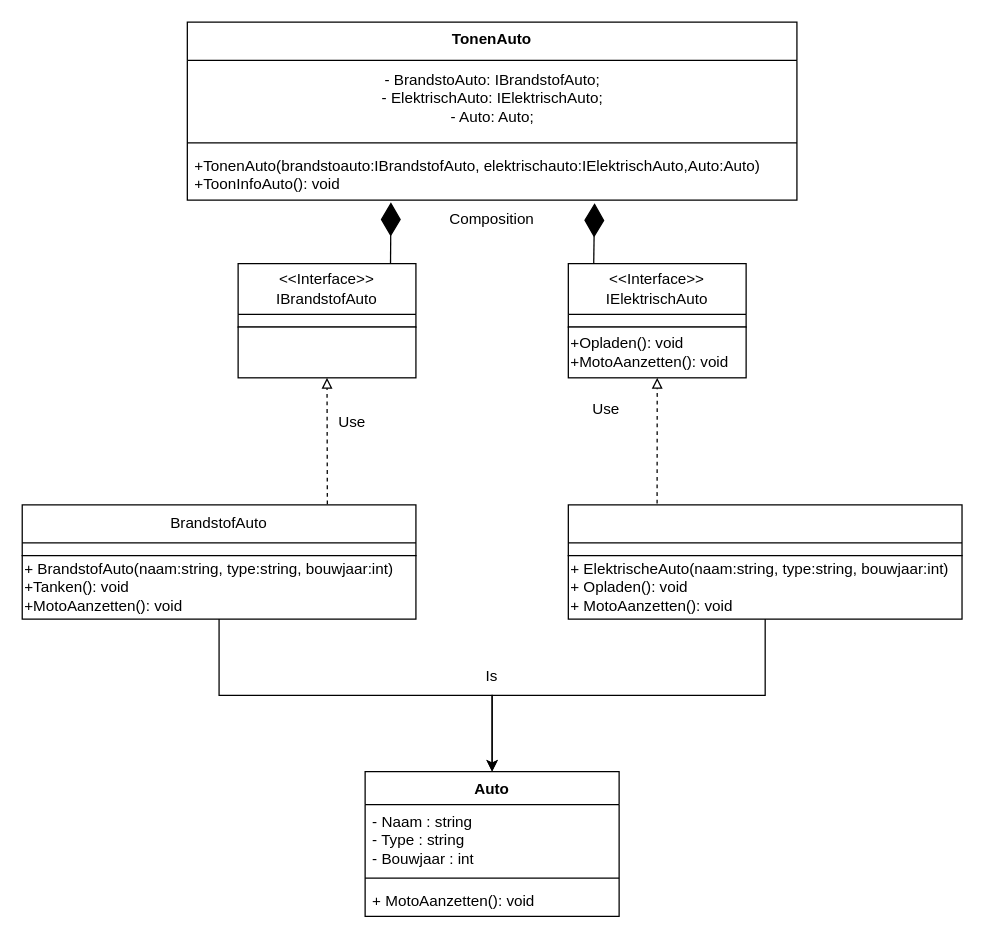
Some shapes in this 984 by 942 pixel diagram are drawn without their labels. The shapes that lost their labels are listed below. From the top down, each one's centre as x and y in pixels, then its label:
pixel 326 352: +Tanken(): void +MotoAanzetten(): void
pixel 764 530: ElektrischeAuto
